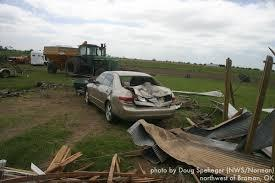Bumper: (111, 104, 177, 121)
Dickey: (122, 84, 173, 108)
Windshield: (120, 76, 160, 87)
